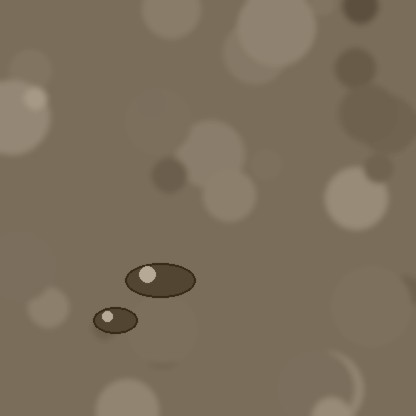gota: (125, 264, 195, 300), (93, 308, 137, 336)
